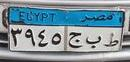3: (10, 28, 22, 47)
4: (38, 29, 47, 48)
5: (50, 32, 63, 45)
9: (25, 28, 36, 46)
Taa: (105, 33, 120, 48)
baa: (86, 35, 102, 48)
jeem: (69, 32, 83, 48)
